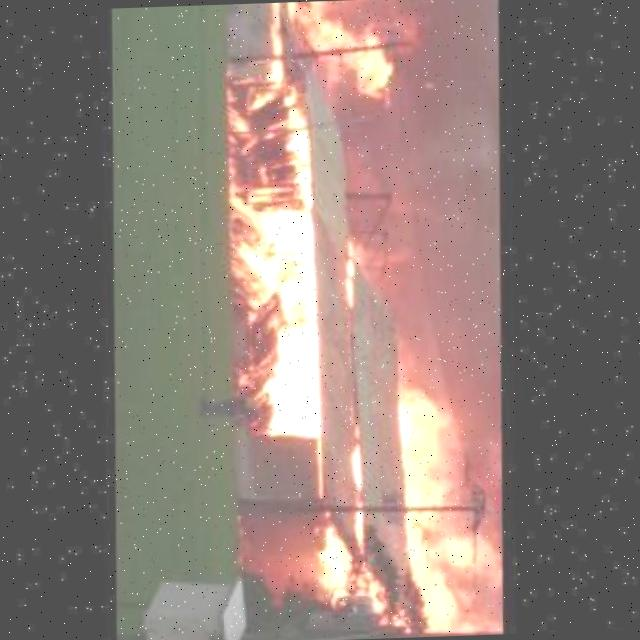fire: (394, 380, 511, 636), (219, 206, 333, 446), (284, 0, 418, 105), (222, 84, 322, 211), (315, 511, 385, 616), (247, 1, 286, 80), (354, 422, 370, 490), (346, 245, 362, 310)
